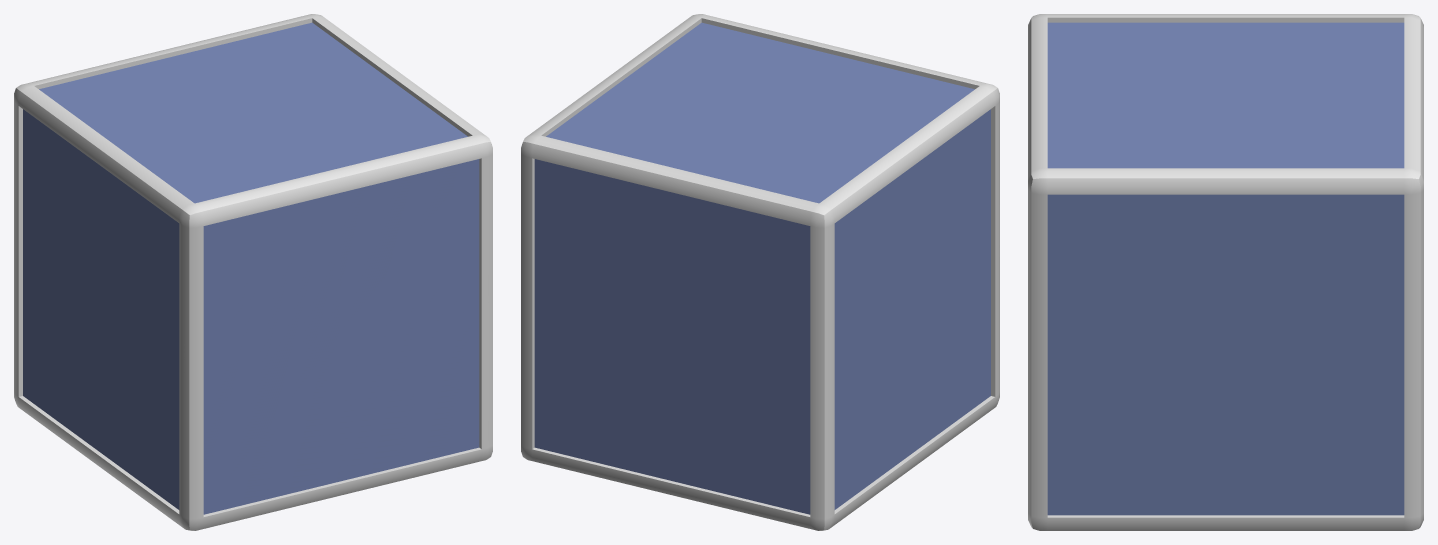
File: Cage02.fbx
The picture shows the model from 3 angles, left to right: view 1: azimuth 30°, elevation 25°; view 2: azimuth 150°, elevation 25°; view 3: azimuth 270°, elevation 25°; orthographic projection. The views are drawn at different scales.
Parts seen in each view (by area): view 1: Glass_001, Cage, Glass_005_fracturepart21, Glass_004_fracturepart22, Glass_004_fracturepart30, Glass_004_fracturepart37, Glass_004_fracturepart1, Glass_004_fracturepart2, Glass_005_fracturepart19, Glass_004_fracturepart50, Glass_005_fracturepart53, Glass_005_fracturepart5 (+25 smaller); view 2: Glass_000, Cage, Glass_005_fracturepart21, Glass_004_fracturepart22, Glass_004_fracturepart37, Glass_004_fracturepart30, Glass_004_fracturepart2, Glass_005_fracturepart19, Glass_004_fracturepart50, Glass_004_fracturepart1, Glass_005_fracturepart53, Glass_005_fracturepart5 (+26 smaller); view 3: Cage, Glass_002_fracturepart60, Glass_002_fracturepart26, Glass_002_fracturepart54, Glass_002_fracturepart11, Glass_002_fracturepart32, Glass_002_fracturepart52, Glass_002_fracturepart9, Glass_002_fracturepart43, Glass_002_fracturepart14, Glass_004_fracturepart22, Glass_002_fracturepart55 (+26 smaller).
Part boxes in pixels (bbox=[...]): Glass_001: bbox=[203, 159, 479, 514]; Cage: bbox=[14, 14, 492, 530]; Glass_005_fracturepart21: bbox=[102, 206, 179, 352]; Glass_004_fracturepart22: bbox=[244, 109, 386, 159]; Glass_004_fracturepart30: bbox=[111, 54, 298, 98]; Glass_004_fracturepart37: bbox=[112, 77, 255, 130]; Glass_004_fracturepart1: bbox=[182, 25, 331, 74]; Glass_004_fracturepart2: bbox=[100, 111, 243, 155]; Glass_005_fracturepart19: bbox=[46, 126, 110, 230]; Glass_004_fracturepart50: bbox=[235, 73, 355, 120]; Glass_005_fracturepart53: bbox=[23, 213, 102, 300]; Glass_005_fracturepart5: bbox=[77, 272, 125, 386]; Glass_000: bbox=[534, 159, 810, 514]; Cage: bbox=[521, 14, 999, 530]; Glass_005_fracturepart21: bbox=[909, 136, 990, 283]; Glass_004_fracturepart22: bbox=[698, 44, 807, 111]; Glass_004_fracturepart37: bbox=[735, 111, 820, 184]; Glass_004_fracturepart30: bbox=[654, 119, 752, 186]; Glass_004_fracturepart2: bbox=[798, 108, 905, 167]; Glass_005_fracturepart19: bbox=[854, 171, 918, 268]; Glass_004_fracturepart50: bbox=[645, 81, 769, 130]; Glass_004_fracturepart1: bbox=[558, 114, 669, 166]; Glass_005_fracturepart53: bbox=[834, 252, 909, 350]; Glass_005_fracturepart5: bbox=[884, 274, 932, 389]; Cage: bbox=[1028, 14, 1423, 530]; Glass_002_fracturepart60: bbox=[1139, 304, 1354, 441]; Glass_002_fracturepart26: bbox=[1125, 239, 1281, 355]; Glass_002_fracturepart54: bbox=[1300, 238, 1404, 413]; Glass_002_fracturepart11: bbox=[1184, 416, 1341, 515]; Glass_002_fracturepart32: bbox=[1268, 194, 1404, 320]; Glass_002_fracturepart52: bbox=[1047, 274, 1148, 399]; Glass_002_fracturepart9: bbox=[1047, 374, 1212, 467]; Glass_002_fracturepart43: bbox=[1320, 406, 1402, 515]; Glass_002_fracturepart14: bbox=[1047, 421, 1192, 507]; Glass_004_fracturepart22: bbox=[1050, 82, 1213, 142]; Glass_002_fracturepart55: bbox=[1210, 194, 1320, 269].
Bounding box in the file's own units: 22.9 × 22.9 × 22.9.
